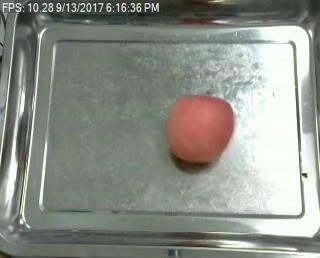apple: (165, 96, 236, 164)
